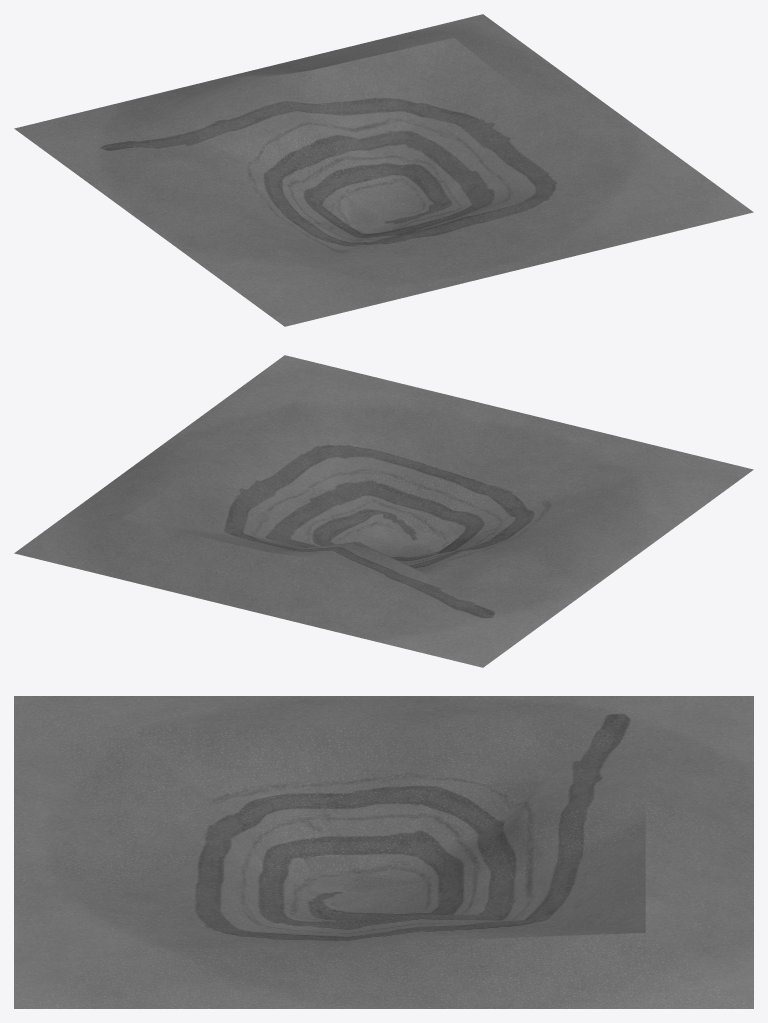
The model's file is Mine.fbx.
3 views of the same model, one above another, from view 1: azimuth 30°, elevation 25°; view 2: azimuth 150°, elevation 25°; view 3: azimuth 270°, elevation 25° (orthographic). The views are drawn at different scales.
Visible parts, largest first — view 1: Mines; view 2: Mines; view 3: Mines.
Part boxes in pixels (x1,y1,x2,y2): Mines: (14, 14, 753, 326); Mines: (14, 355, 753, 667); Mines: (14, 696, 753, 1008).
Bounding box in the file's own units: 201 × 27.3 × 201.
Materials: 1 (1 with a texture image).
